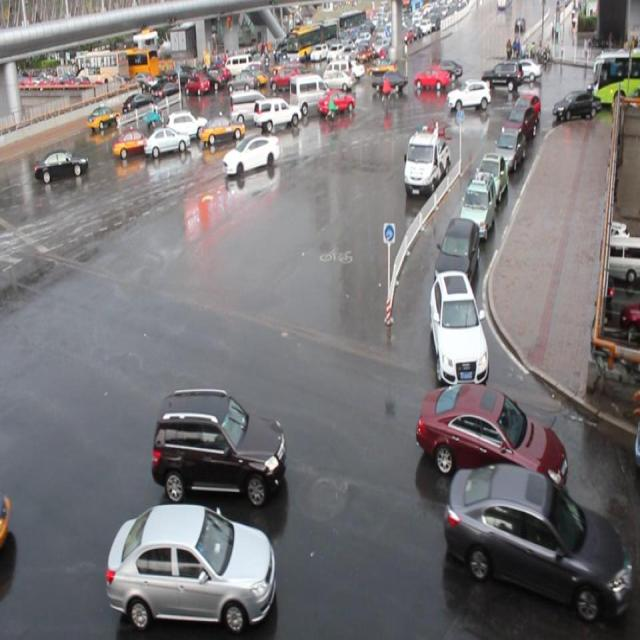bus: (403, 131, 451, 198)
car: (444, 462, 629, 620), (106, 503, 276, 629), (414, 380, 566, 496), (153, 388, 288, 503), (430, 268, 488, 384), (436, 213, 481, 292), (460, 173, 498, 242), (223, 133, 280, 174), (473, 150, 509, 208), (36, 146, 89, 184), (252, 96, 302, 133), (199, 112, 247, 150), (144, 126, 192, 160), (166, 108, 209, 144), (495, 124, 527, 170), (507, 106, 539, 150), (448, 78, 490, 110), (113, 129, 153, 158), (318, 90, 355, 117), (517, 94, 543, 132)
truck: (288, 75, 332, 115), (228, 90, 271, 128)
